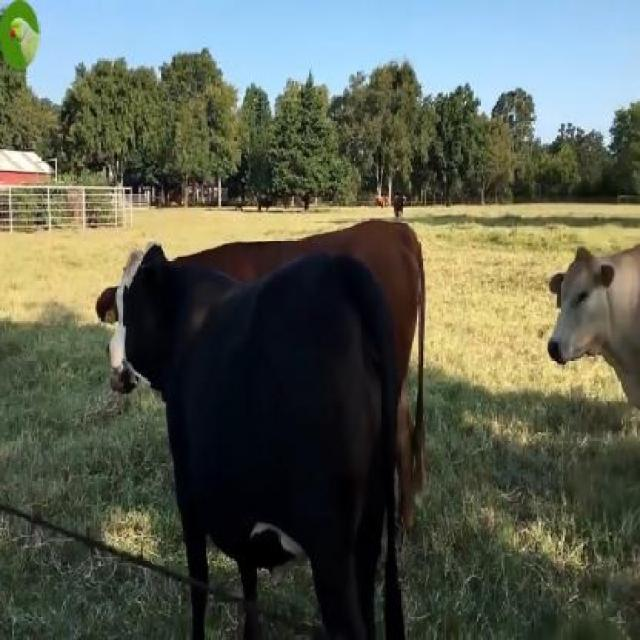Cow: (108, 249, 398, 628), (546, 242, 639, 446)
